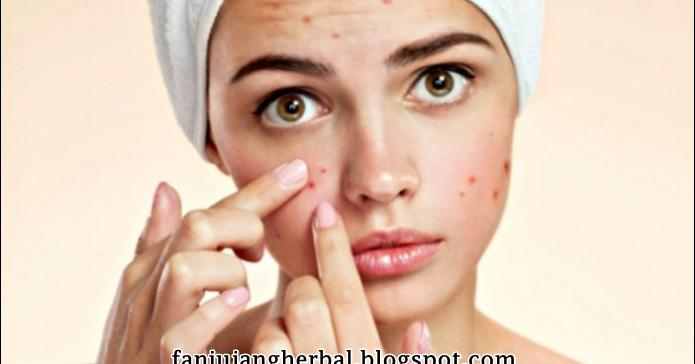Acne: (261, 0, 399, 43), (452, 153, 512, 209), (289, 156, 335, 198)
